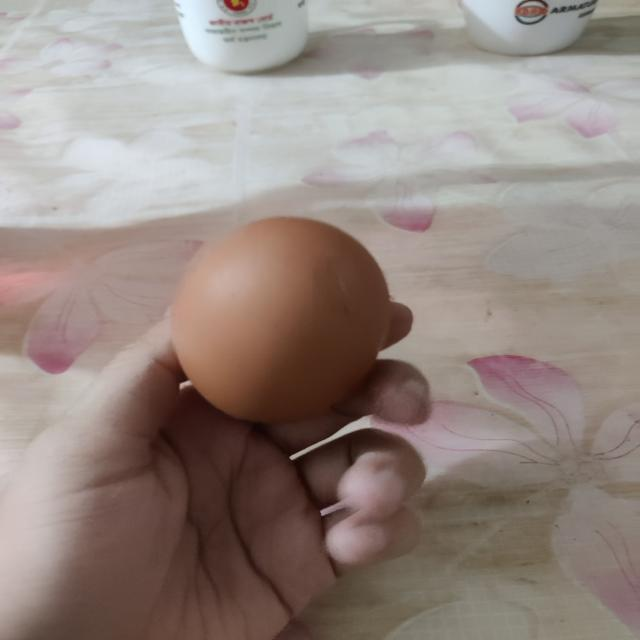egg: (166, 215, 392, 418)
